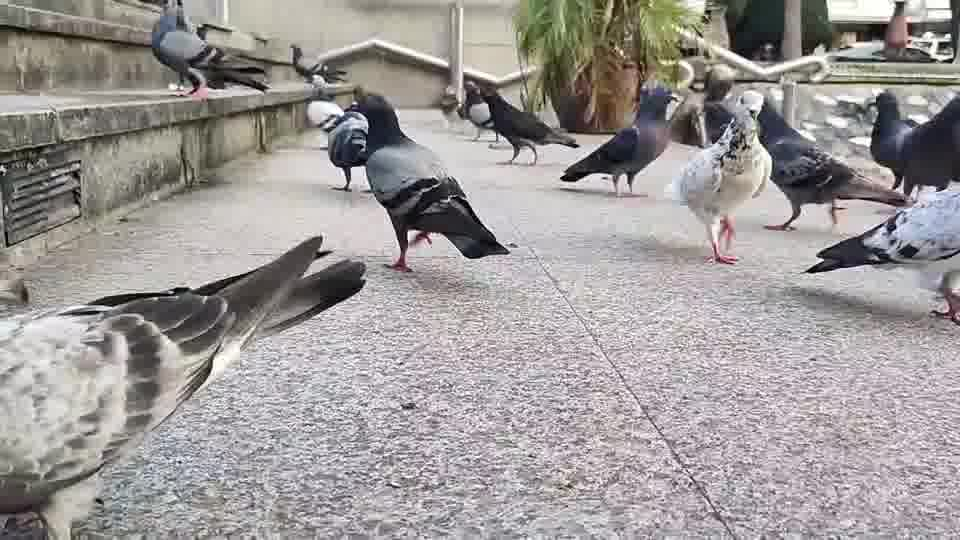Pigeon: (0, 232, 366, 538), (343, 91, 511, 272), (734, 89, 912, 233), (800, 188, 959, 324), (672, 105, 772, 265), (559, 83, 682, 198), (149, 0, 271, 96), (868, 88, 959, 200), (478, 86, 580, 165), (306, 98, 370, 192), (455, 79, 502, 143), (290, 44, 347, 87)
